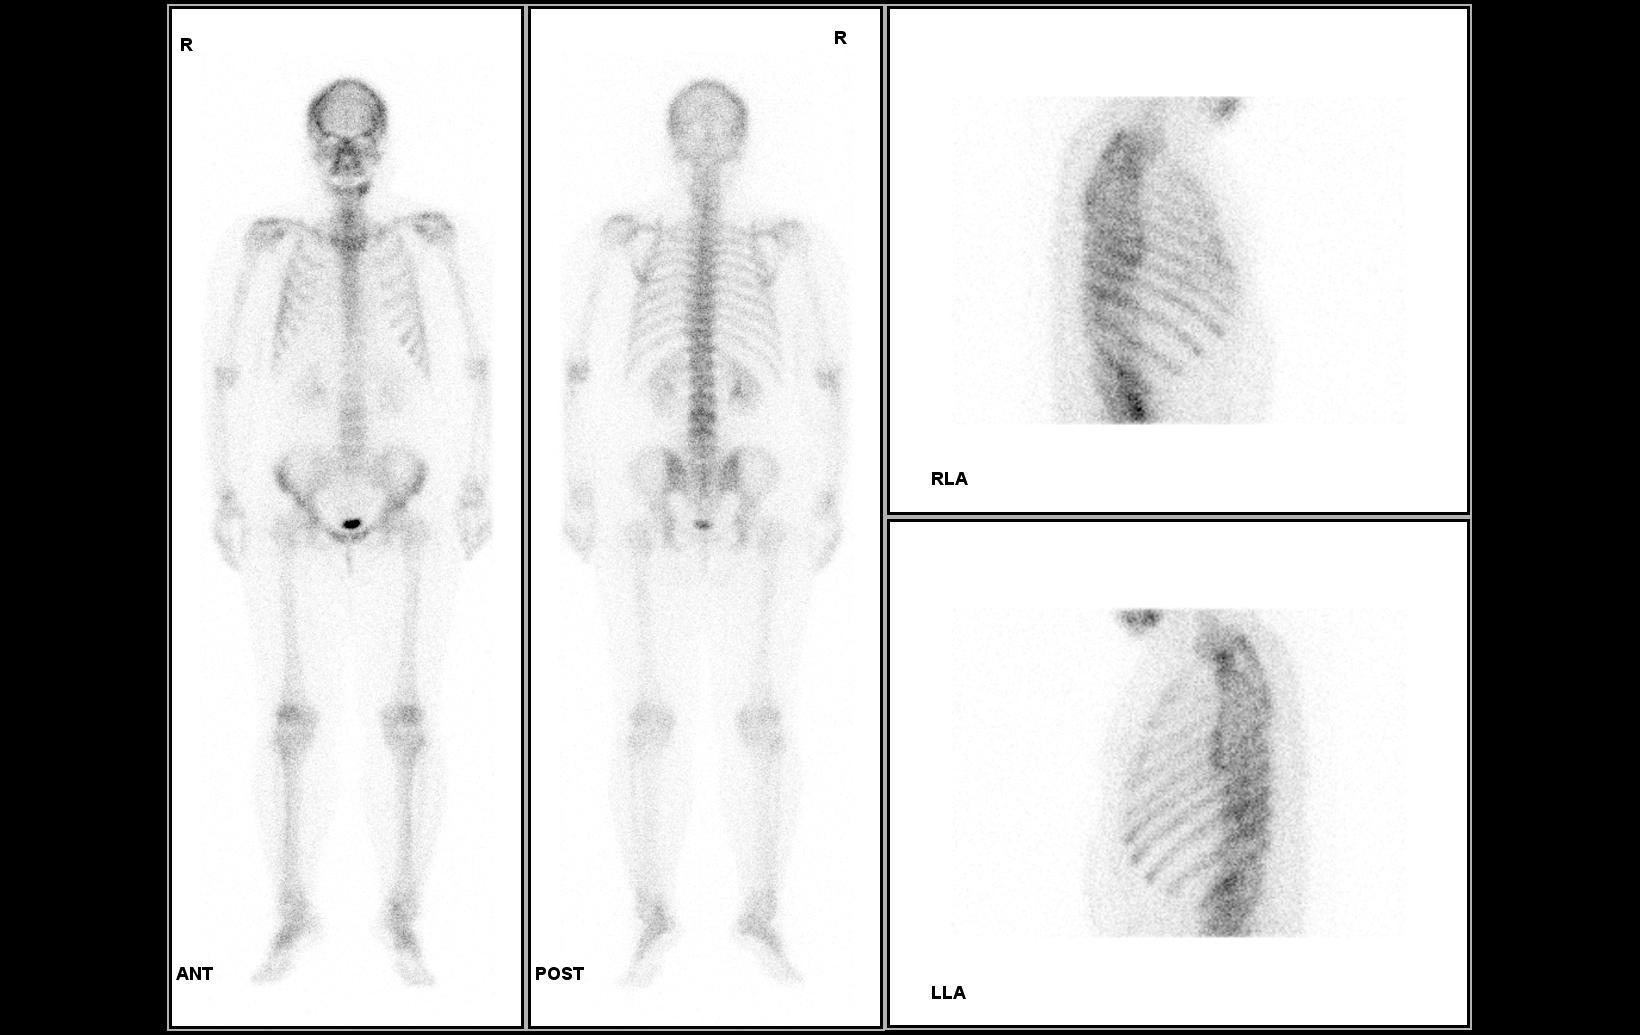person: (171, 8, 883, 1029)
